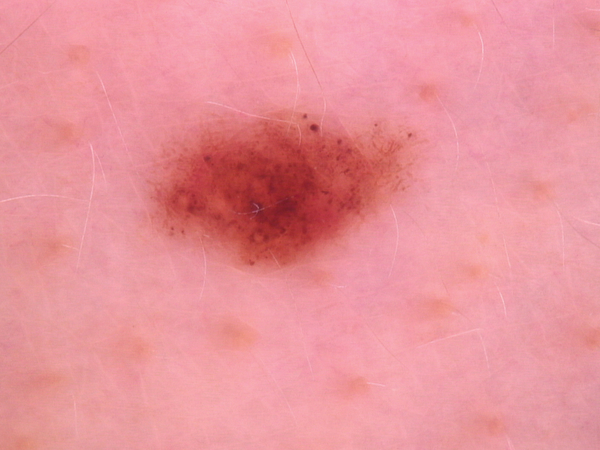Detected Lesion: (138, 103, 421, 271)
